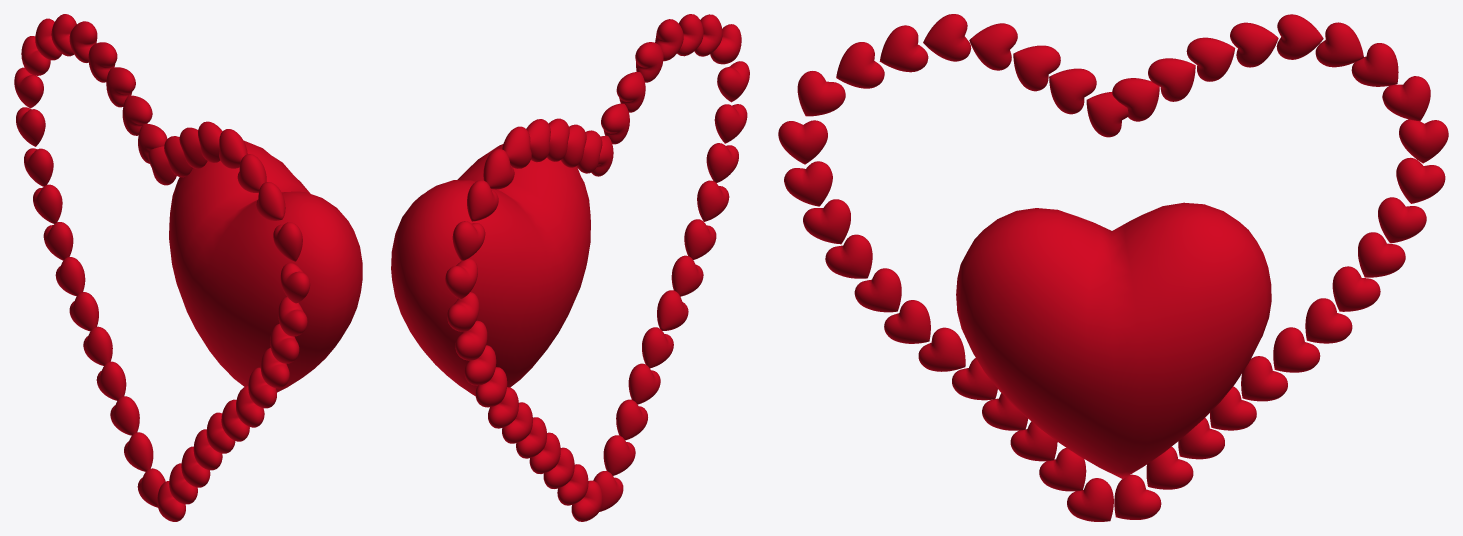
Rendered from furry_love.glb.
The picture shows the model from 3 angles, left to right: view 1: azimuth 30°, elevation 25°; view 2: azimuth 150°, elevation 25°; view 3: azimuth 270°, elevation 25°; orthographic projection. The views are drawn at different scales.
Visible parts, largest first — view 1: Heart_Heart_0.006_19, Heart_Heart_0.016_29, Heart_Heart_0.039_52, Heart_Heart_0.040_53, Heart_Heart_0.004_17, Heart_Heart_0.002_15, Heart_Heart_0.014_27, Heart_Heart_0.015_28, Heart_Heart_0.030_43, Heart_Heart_0.018_31, Heart_Heart_0.032_45, Heart_Heart_0.038_51 (+29 smaller); view 2: Heart_Heart_0.006_19, Heart_Heart_0.035_48, Heart_Heart_0.008_21, Heart_Heart_0.010_23, Heart_Heart_0.011_24, Heart_Heart_0.013_26, Heart_Heart_0.034_47, Heart_Heart_0.012_25, Heart_Heart_0.003_16, Heart_Heart_0.036_49, Heart_Heart_0.026_39, Heart_Heart_0.027_40 (+29 smaller); view 3: Heart_Heart_0.006_19, Heart_Heart_0.017_30, Heart_Heart_0.024_37, Heart_Heart_0.028_41, Heart_Heart_0.016_29, Heart_Heart_0.018_31, Heart_Heart_0.015_28, Heart_Heart_0.001_14, Heart_Heart_0.030_43, Heart_Heart_0.029_42, Heart_Heart_0.032_45, Heart_Heart_0.031_44 (+29 smaller).
Boxes of the visible parts, box(x1,y1,x2,y2) form: Heart_Heart_0.006_19: box(169, 140, 362, 392); Heart_Heart_0.016_29: box(256, 182, 285, 220); Heart_Heart_0.039_52: box(106, 67, 135, 107); Heart_Heart_0.040_53: box(122, 95, 152, 135); Heart_Heart_0.004_17: box(110, 396, 139, 435); Heart_Heart_0.002_15: box(124, 432, 153, 471); Heart_Heart_0.014_27: box(280, 263, 310, 303); Heart_Heart_0.015_28: box(273, 222, 302, 261); Heart_Heart_0.030_43: box(33, 184, 62, 223); Heart_Heart_0.018_31: box(219, 129, 247, 168); Heart_Heart_0.032_45: box(16, 107, 45, 146); Heart_Heart_0.038_51: box(88, 42, 117, 82); Heart_Heart_0.006_19: box(391, 144, 590, 395); Heart_Heart_0.035_48: box(467, 180, 498, 221); Heart_Heart_0.008_21: box(657, 290, 688, 330); Heart_Heart_0.010_23: box(684, 219, 716, 259); Heart_Heart_0.011_24: box(697, 180, 729, 221); Heart_Heart_0.013_26: box(714, 104, 747, 143); Heart_Heart_0.034_47: box(452, 221, 485, 261); Heart_Heart_0.012_25: box(706, 143, 738, 183); Heart_Heart_0.003_16: box(628, 363, 660, 404); Heart_Heart_0.036_49: box(483, 149, 514, 189); Heart_Heart_0.026_39: box(603, 435, 635, 475); Heart_Heart_0.027_40: box(616, 399, 647, 440); Heart_Heart_0.006_19: box(956, 202, 1271, 478); Heart_Heart_0.017_30: box(879, 25, 928, 72); Heart_Heart_0.024_37: box(1273, 327, 1320, 372); Heart_Heart_0.028_41: box(1305, 298, 1352, 343); Heart_Heart_0.016_29: box(836, 42, 884, 88); Heart_Heart_0.018_31: box(923, 14, 971, 61); Heart_Heart_0.015_28: box(797, 71, 845, 116); Heart_Heart_0.001_14: box(1114, 474, 1161, 519); Heart_Heart_0.030_43: box(1358, 232, 1405, 277); Heart_Heart_0.029_42: box(1332, 266, 1380, 311); Heart_Heart_0.032_45: box(1396, 157, 1445, 203); Heart_Heart_0.031_44: box(1378, 197, 1426, 243).
Size of the model in its own units: 2 by 4.4 by 5.28.
